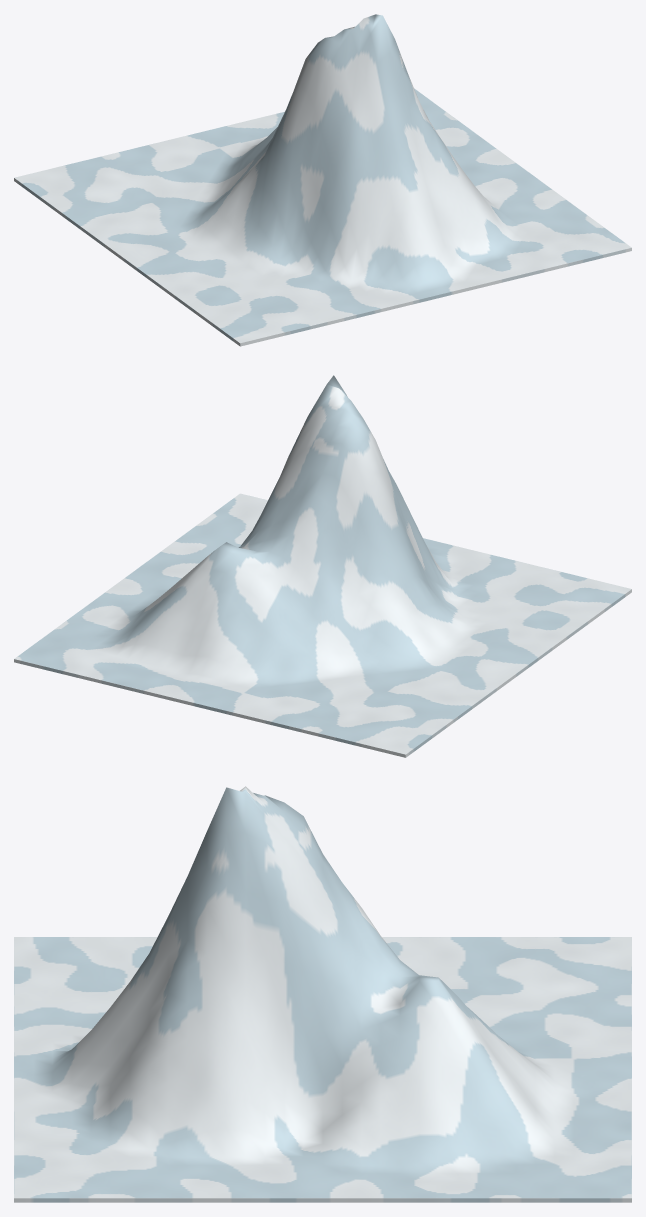
The model's file is Snow_Mountains_08.obj.
3 views of the same model, one above another, from view 1: azimuth 30°, elevation 25°; view 2: azimuth 150°, elevation 25°; view 3: azimuth 270°, elevation 25° (orthographic). The views are drawn at different scales.
Size of the model in its own units: 10 by 5.38 by 10.
Materials: 1 (1 with a texture image).
